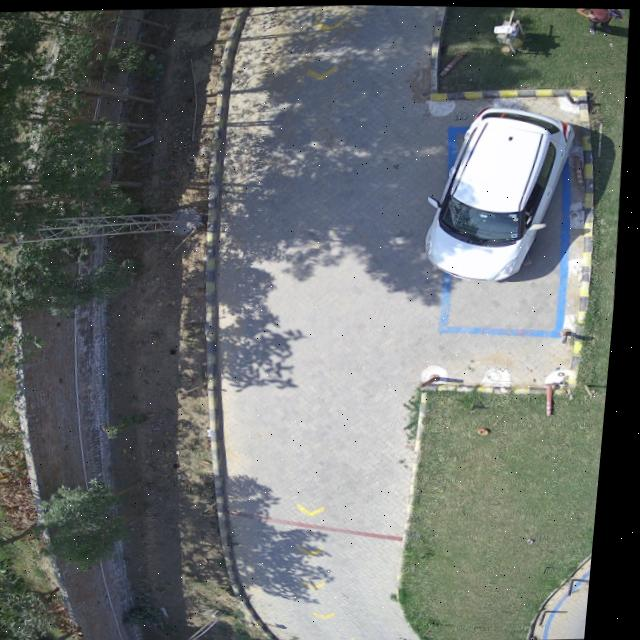car: (429, 103, 576, 278)
